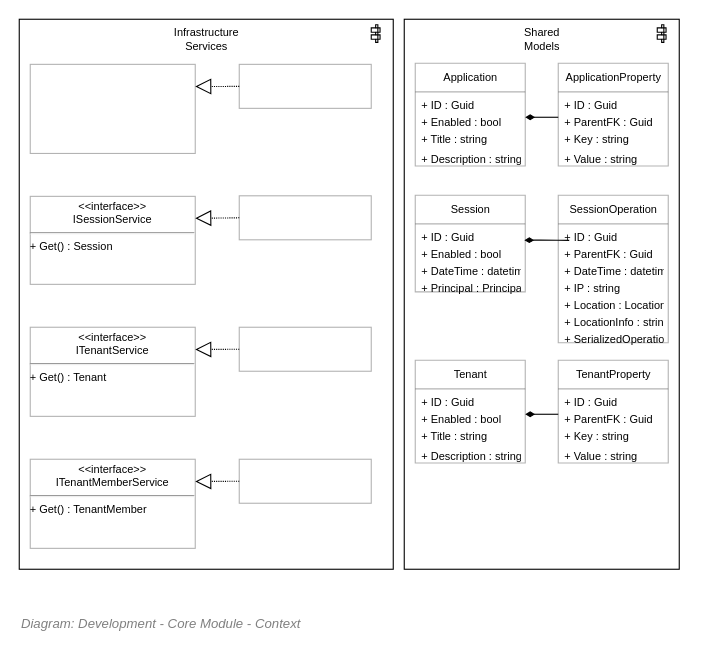
Some shapes in this 703 by 655 pixel diagram are drawn without their labels. Here are the shapes that lost their labels. From the top down, the centre of each, then its label:
the point at 304,85: Application Service
the point at 112,108: <<interface>> IApplicationService + Get() : Application
the point at 304,217: SessionService
the point at 304,348: Tenant Service
the point at 304,480: TenantMember Service
